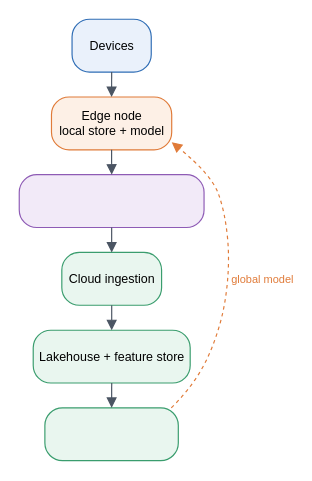
Some shapes in this 312 by 481 pixel diagram are drawn without their labels. Each missing label, with the centre of its shape:
Analytics and federated aggregation: the point at 111,434
Secure channel features / masked updates only: the point at 111,201
